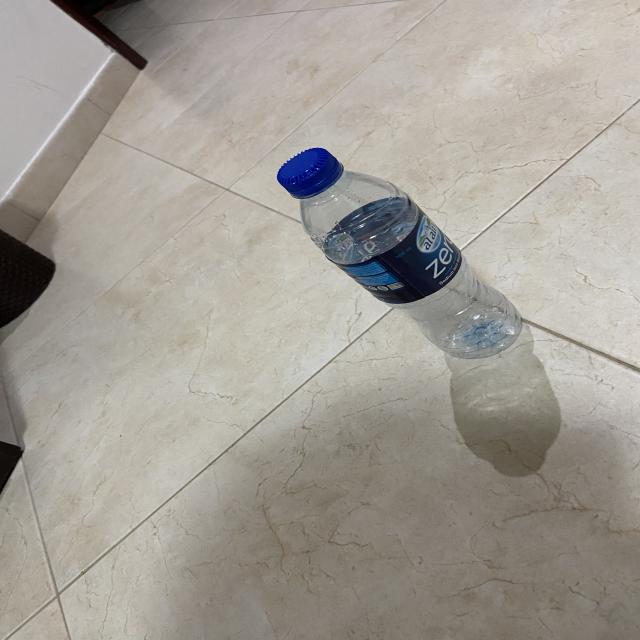bottle: (274, 145, 528, 362)
